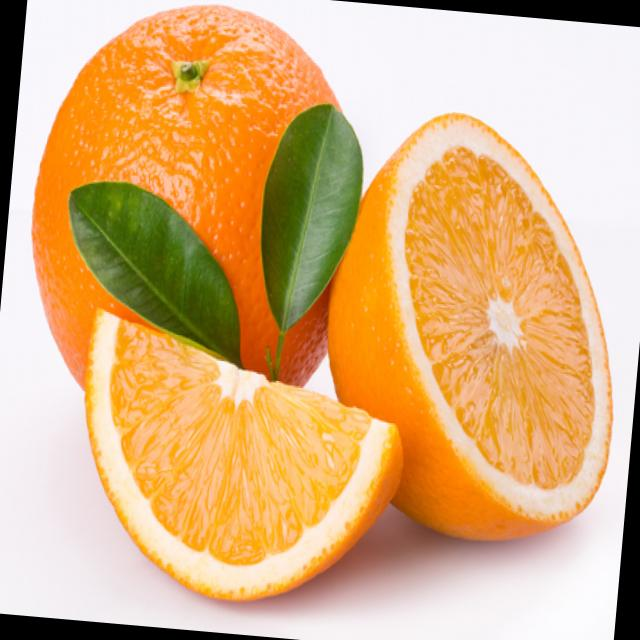orange: (4, 0, 381, 472)
